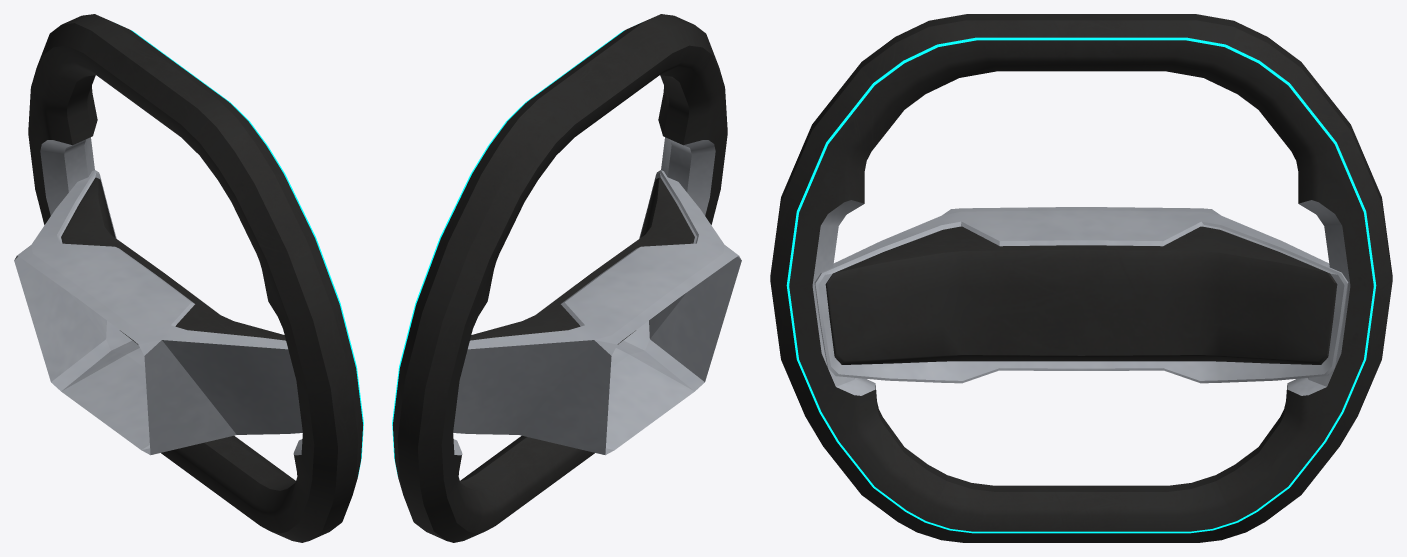
Rendered from steering_wheel.glb.
The picture shows the model from 3 angles, left to right: view 1: azimuth 30°, elevation 25°; view 2: azimuth 150°, elevation 25°; view 3: azimuth 270°, elevation 25°; orthographic projection. The views are drawn at different scales.
Parts seen in each view (by area): view 1: Car 01_Body.002; view 2: Car 01_Body.002; view 3: Car 01_Body.002.
Part boxes in pixels (x1,y1,x2,y2): Car 01_Body.002: (14, 14, 363, 542); Car 01_Body.002: (392, 14, 741, 542); Car 01_Body.002: (770, 14, 1392, 542).
Bounding box in the file's own units: 0.1185 × 0.2794 × 0.3257.
1 material, 1 textured.
